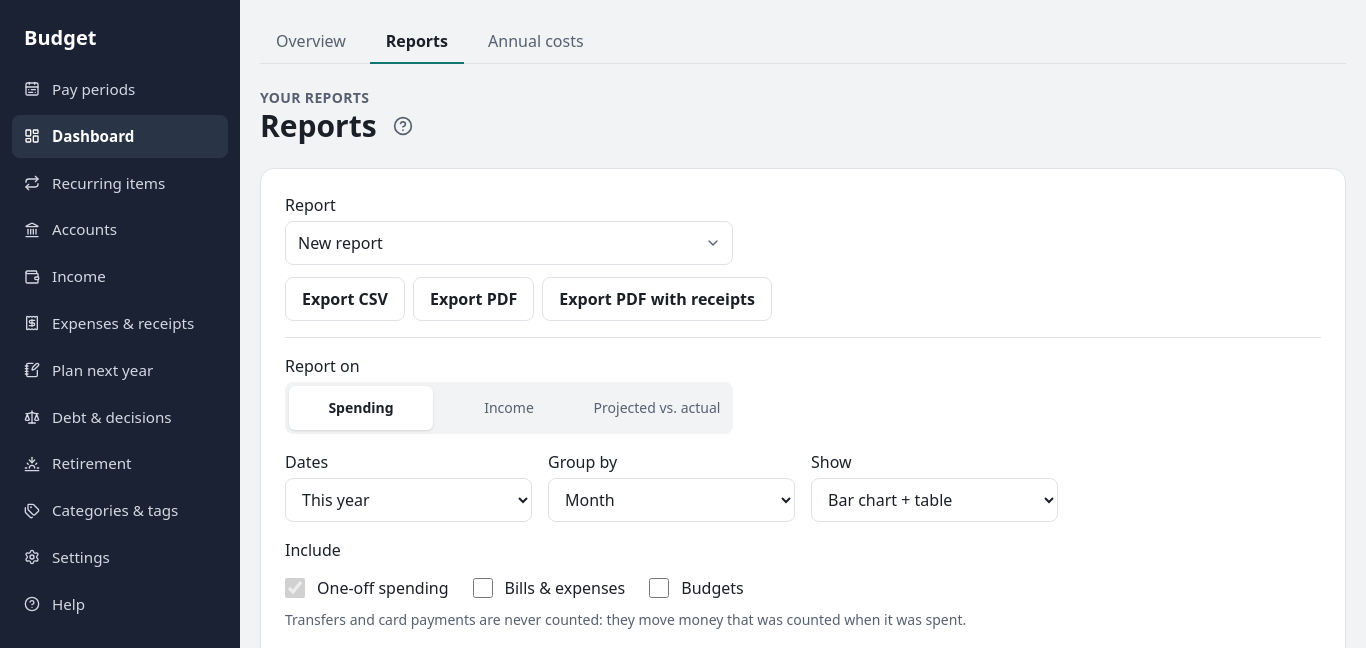
Test: Reports › goes from a saved report to a new one by choosing New report
The width and height of the screenshot is (1366, 648).
Click the dropdown labelled "Report": (509, 243) top-left (285, 221), bottom-right (733, 265)
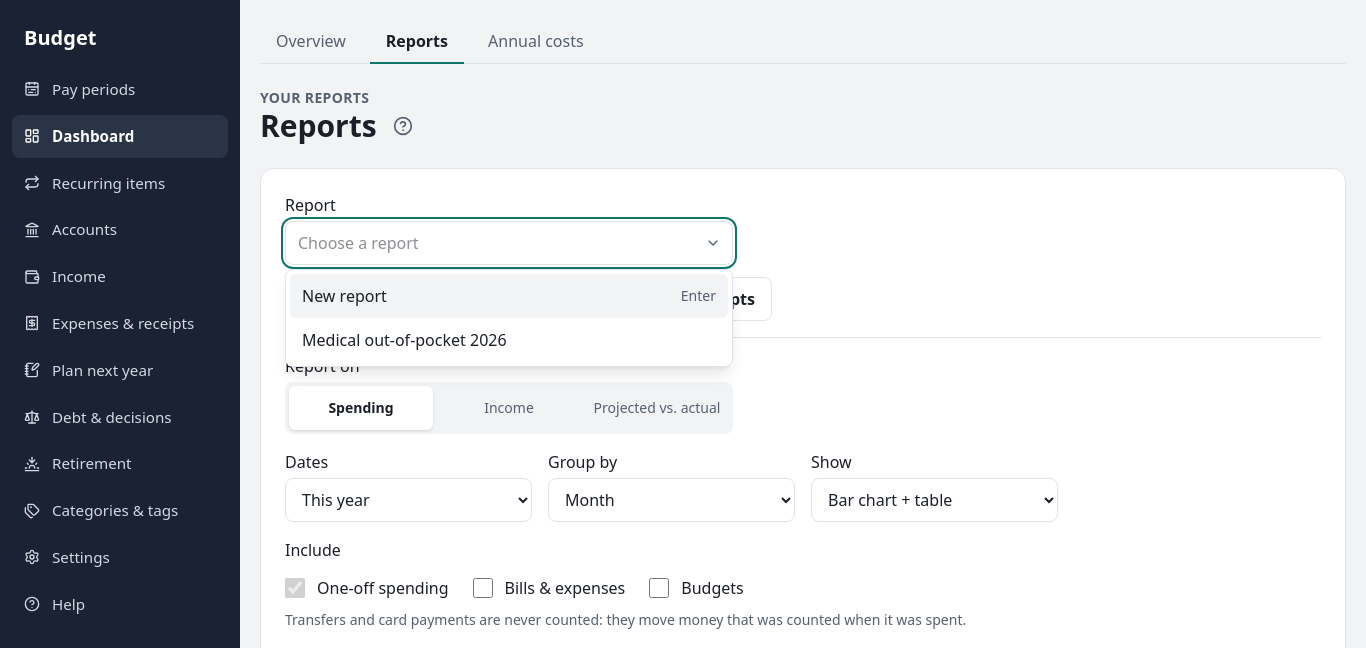
Click the option "Medical out-of-pocket 2026": (404, 340) top-left (302, 329), bottom-right (507, 351)
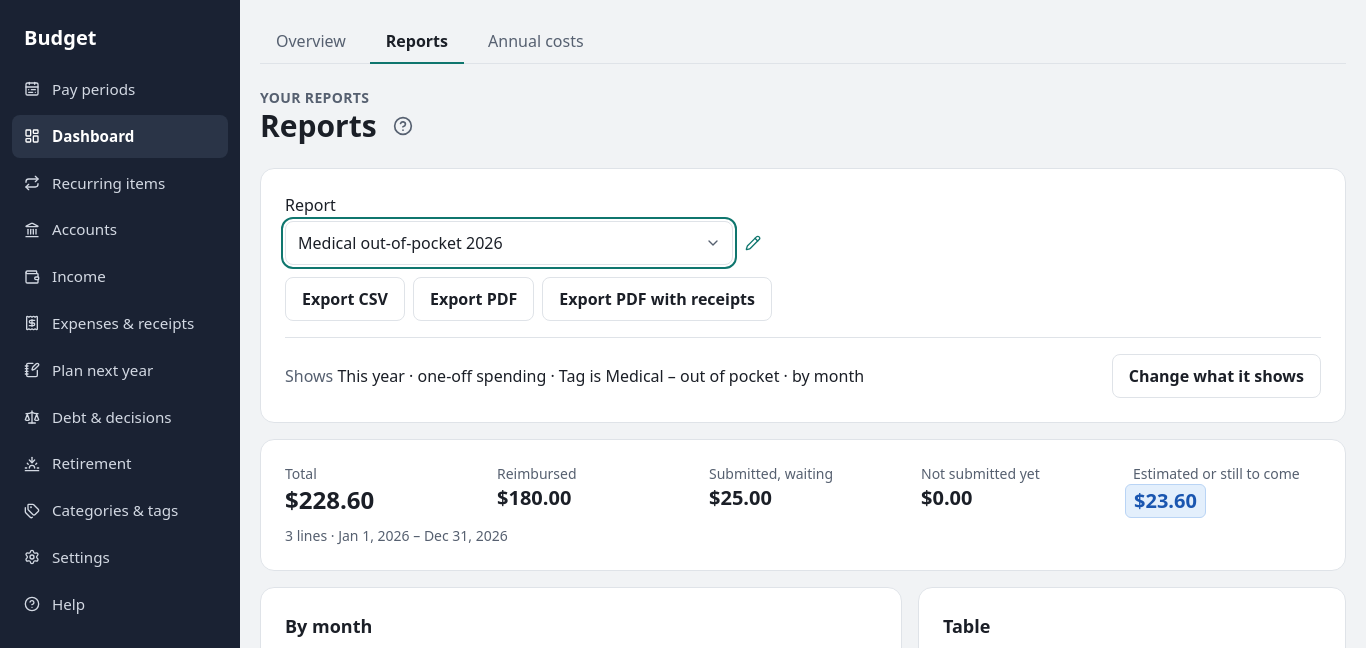
Click the dropdown labelled "Report": (509, 243) top-left (285, 221), bottom-right (733, 265)
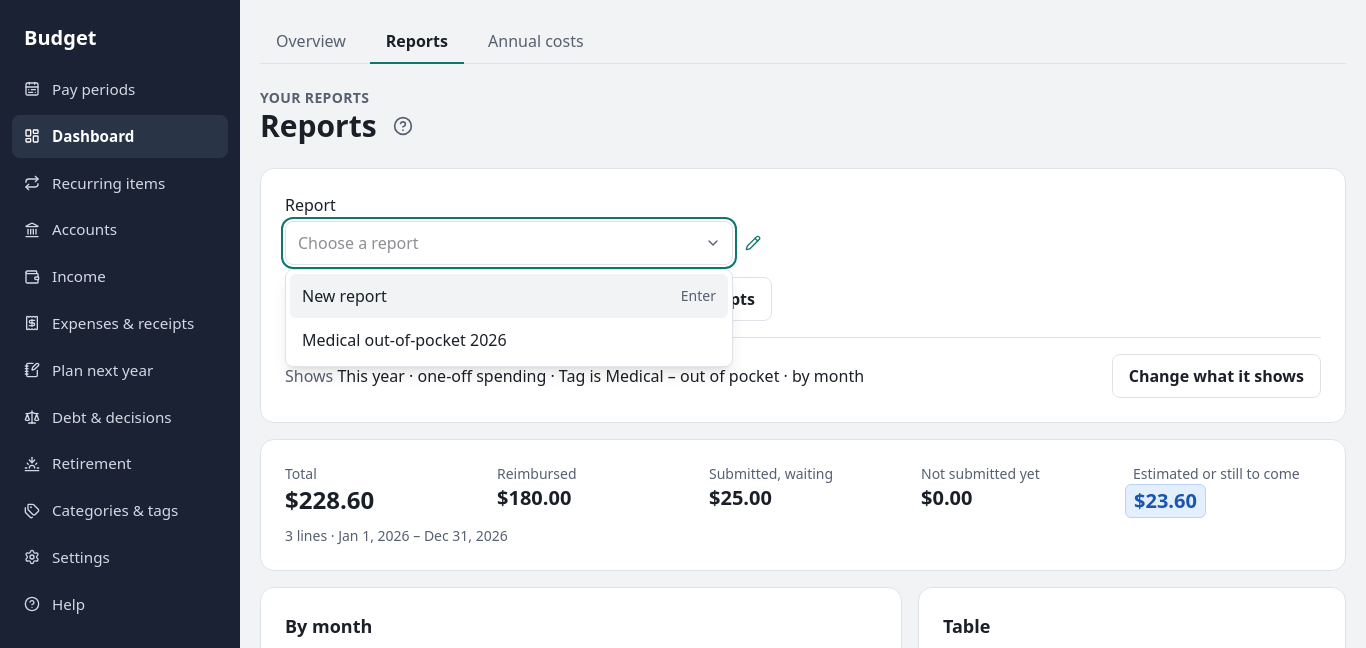
Click the option "New report Enter": (344, 296) top-left (290, 274), bottom-right (728, 318)
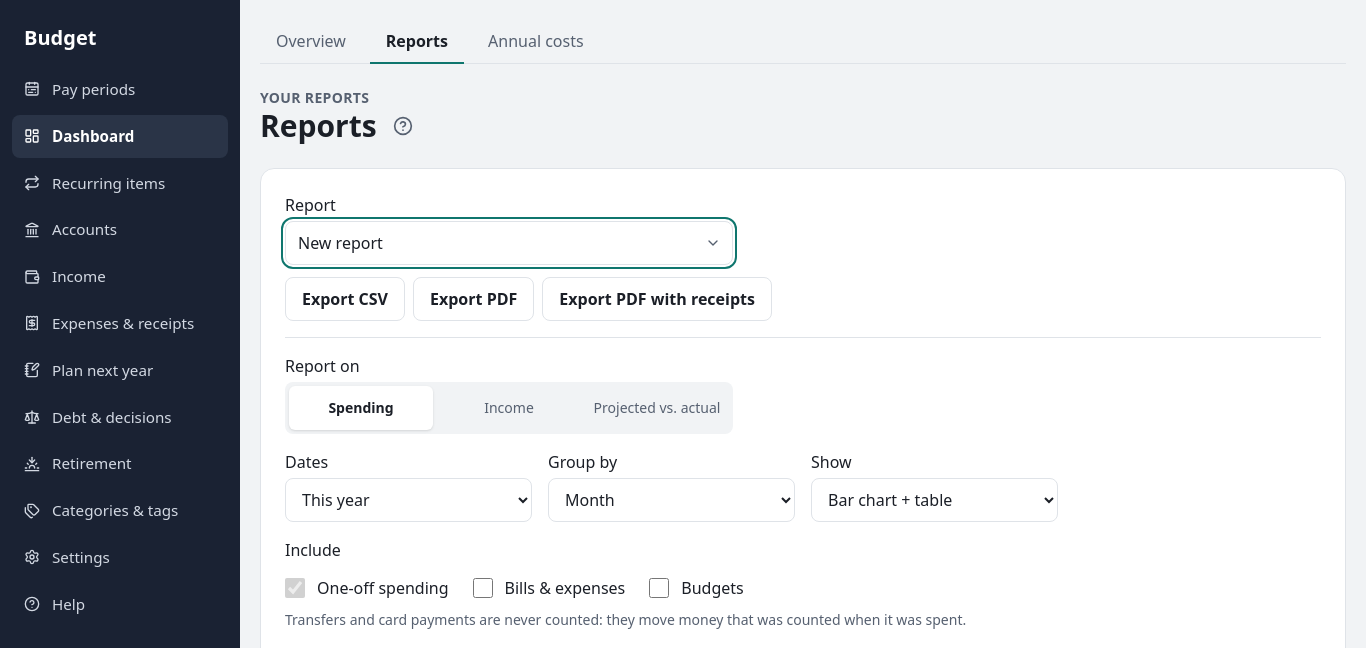
Check: the dropdown labelled "Group by" is shown, box top-left (548, 478), bottom-right (795, 522)
